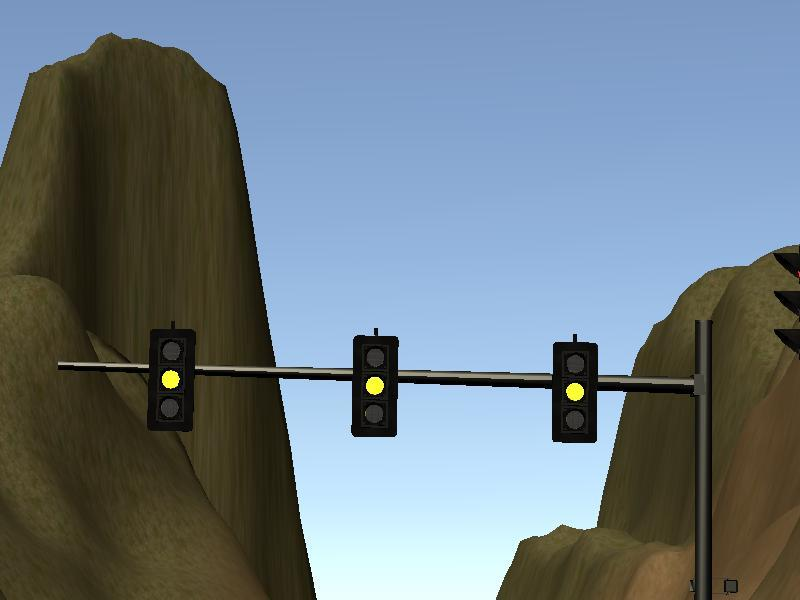Yellow: (148, 330, 194, 431), (553, 344, 597, 441), (353, 337, 396, 435)
